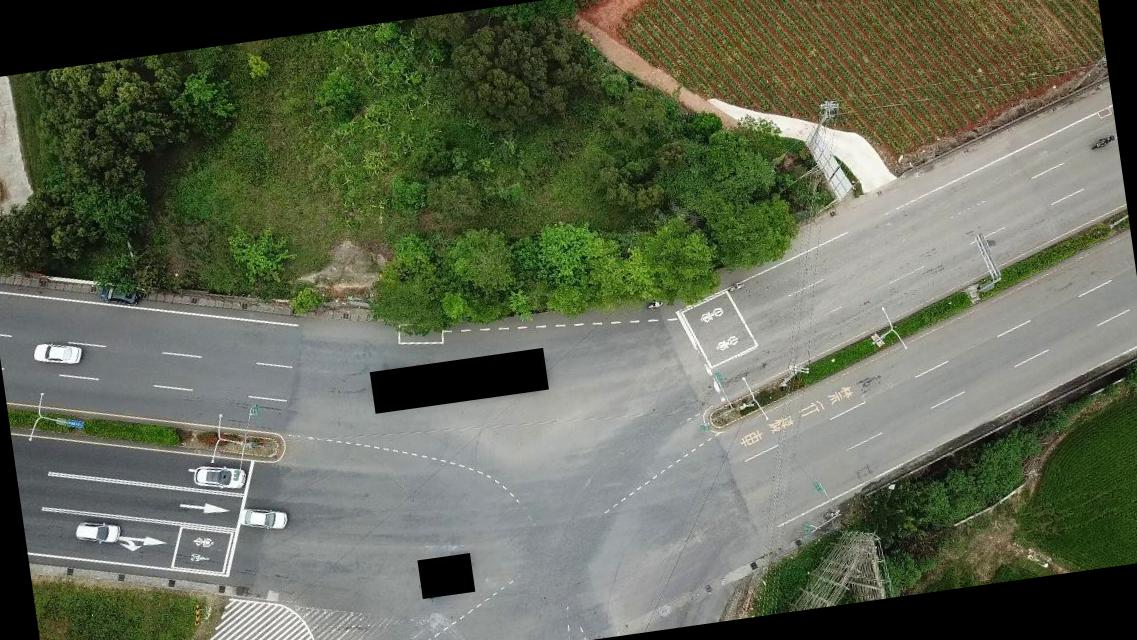vehicle: (190, 459, 249, 496), (30, 336, 85, 372), (74, 516, 122, 548), (238, 504, 289, 534), (97, 277, 141, 307)
